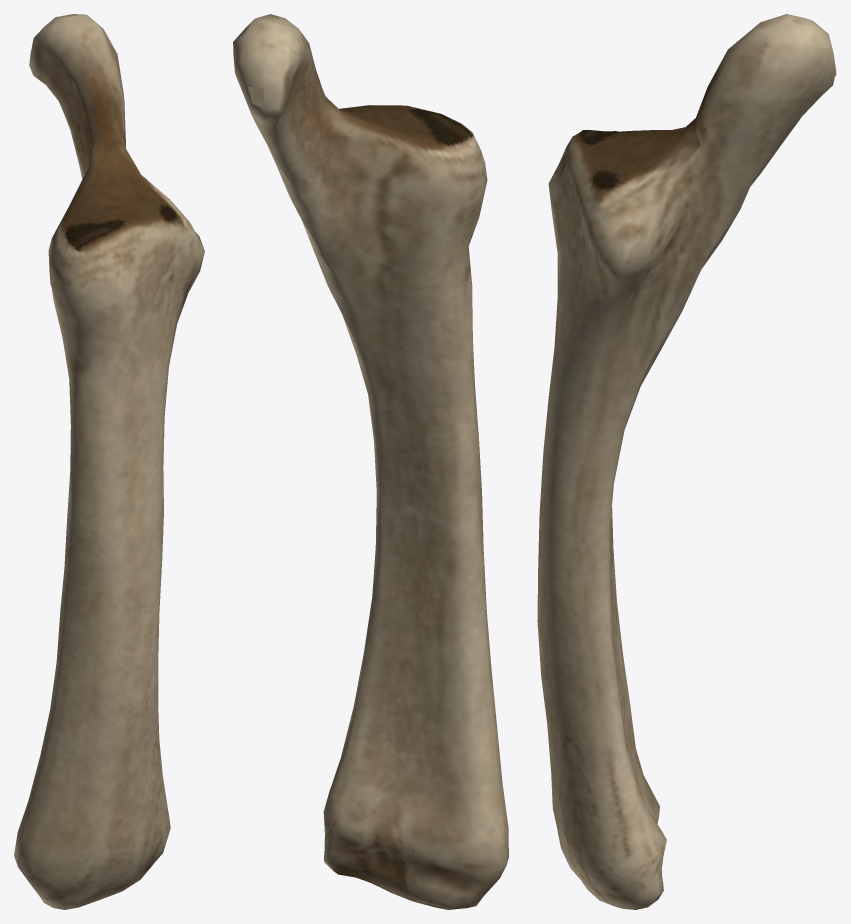
The model's file is Radius.glb.
The picture shows the model from 3 angles, left to right: view 1: azimuth 30°, elevation 25°; view 2: azimuth 150°, elevation 25°; view 3: azimuth 270°, elevation 25°; orthographic projection. The views are drawn at different scales.
Parts seen in each view (by area): view 1: L_Frt_Radius; view 2: L_Frt_Radius; view 3: L_Frt_Radius.
Boxes of the visible parts, x1,y1,x2,y2 form: L_Frt_Radius: (14, 14, 204, 909); L_Frt_Radius: (233, 14, 508, 909); L_Frt_Radius: (537, 14, 836, 909).
Bounding box in the file's own units: 0.1071 × 0.4362 × 0.1305.
1 material, 1 textured.
